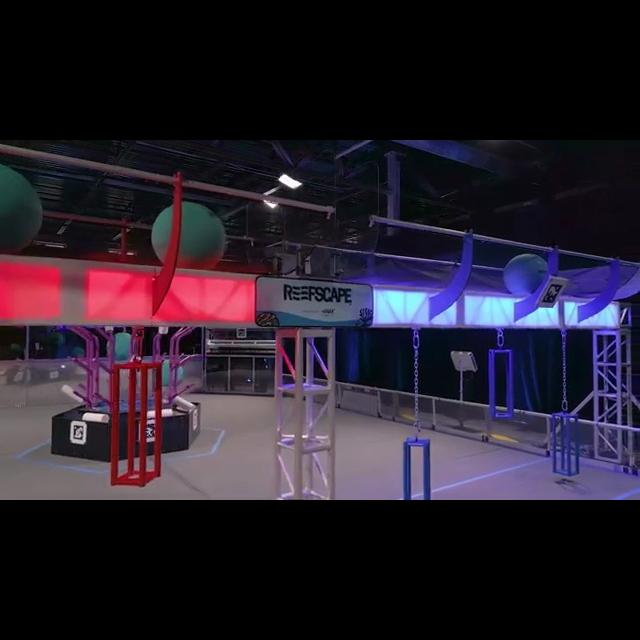ALGAE: (150, 200, 226, 270), (1, 161, 44, 255), (504, 252, 550, 298)
